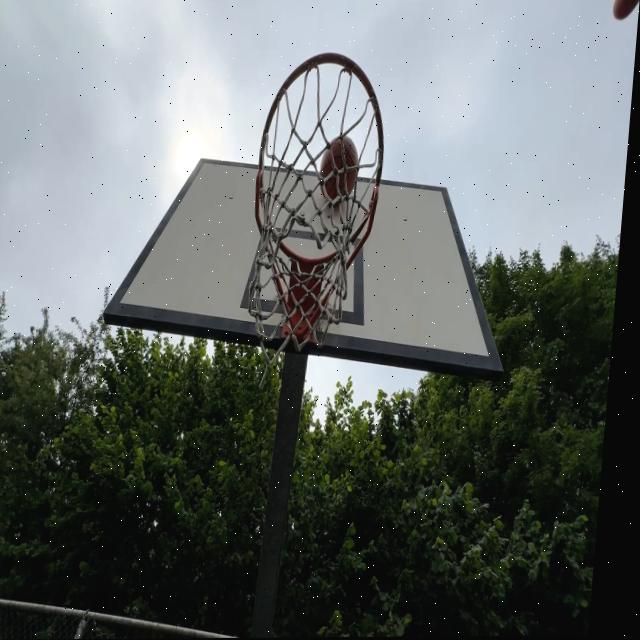rebound_hit: (317, 133, 361, 211)
